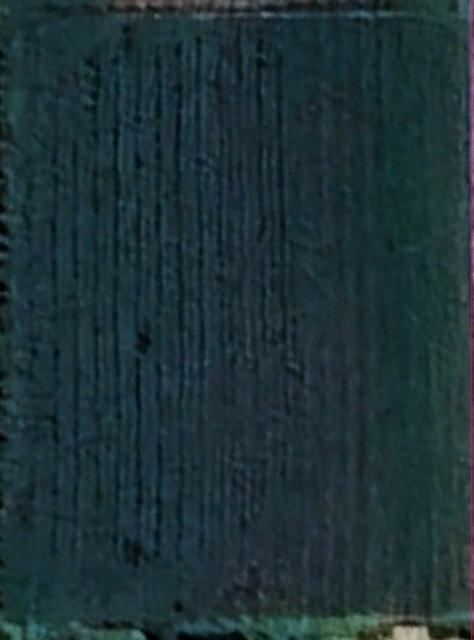Farms: (2, 0, 470, 619)
